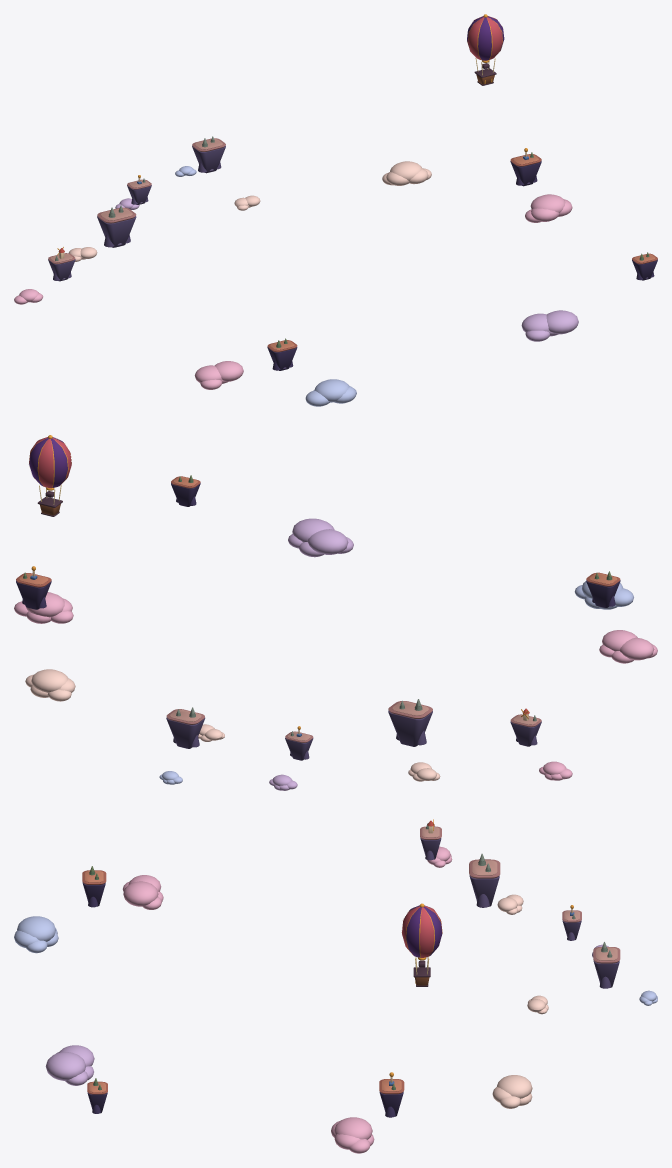
The model's file is p14_sunset_environment.glb.
3 renders of one model, top to bottom at view 1: azimuth 30°, elevation 25°; view 2: azimuth 150°, elevation 25°; view 3: azimuth 270°, elevation 25°, orthographic. The views are drawn at different scales.
Visible parts, largest first — view 1: P14HotAirBalloonEnvelope, P14CloudBankSouth, P14CloudBankSouthWest, P14CloudBankSouthEast, P14CloudBankWest, P14CloudBankEast, P14DistantIslandNorthCliff; view 2: P14CloudBankSouth, P14HotAirBalloonEnvelope, P14CloudBankWest, P14CloudBankEast, P14CloudBankSouthEast, P14DistantIslandNorthCliff, P14CloudBankSouthWest, P14DistantIslandNorthEastCliff, P14DistantIslandEastCliff, P14DistantIslandWestCliff; view 3: P14HotAirBalloonEnvelope, P14CloudBankSouth, P14CloudBankSouthWest, P14CloudBankSouthEast, P14CloudBankWest, P14CloudBankEast, P14DistantIslandNorthCliff.
Part boxes in pixels (<box>): P14HotAirBalloonEnvelope: <box>467,16,504,60</box>; P14CloudBankSouth: <box>521,310,578,341</box>; P14CloudBankSouthWest: <box>305,379,356,406</box>; P14CloudBankSouthEast: <box>525,194,572,222</box>; P14CloudBankWest: <box>194,361,243,389</box>; P14CloudBankEast: <box>382,161,431,185</box>; P14DistantIslandNorthCliff: <box>97,216,136,247</box>; P14CloudBankSouth: <box>288,518,353,557</box>; P14HotAirBalloonEnvelope: <box>29,437,71,488</box>; P14CloudBankWest: <box>599,630,657,663</box>; P14CloudBankEast: <box>25,669,75,701</box>; P14CloudBankSouthEast: <box>14,592,73,623</box>; P14DistantIslandNorthCliff: <box>388,710,432,746</box>; P14CloudBankSouthWest: <box>574,581,633,609</box>; P14DistantIslandNorthEastCliff: <box>166,717,205,748</box>; P14DistantIslandEastCliff: <box>16,580,51,609</box>; P14DistantIslandWestCliff: <box>586,580,620,607</box>; P14HotAirBalloonEnvelope: <box>402,905,442,957</box>; P14CloudBankSouth: <box>45,1045,94,1085</box>; P14CloudBankSouthWest: <box>14,916,58,953</box>; P14CloudBankSouthEast: <box>331,1117,374,1153</box>; P14CloudBankWest: <box>122,875,163,909</box>; P14CloudBankEast: <box>492,1075,532,1108</box>; P14DistantIslandNorthCliff: <box>469,875,499,906</box>.
Size of the model in its own units: 97 by 34.05 by 88.89.
